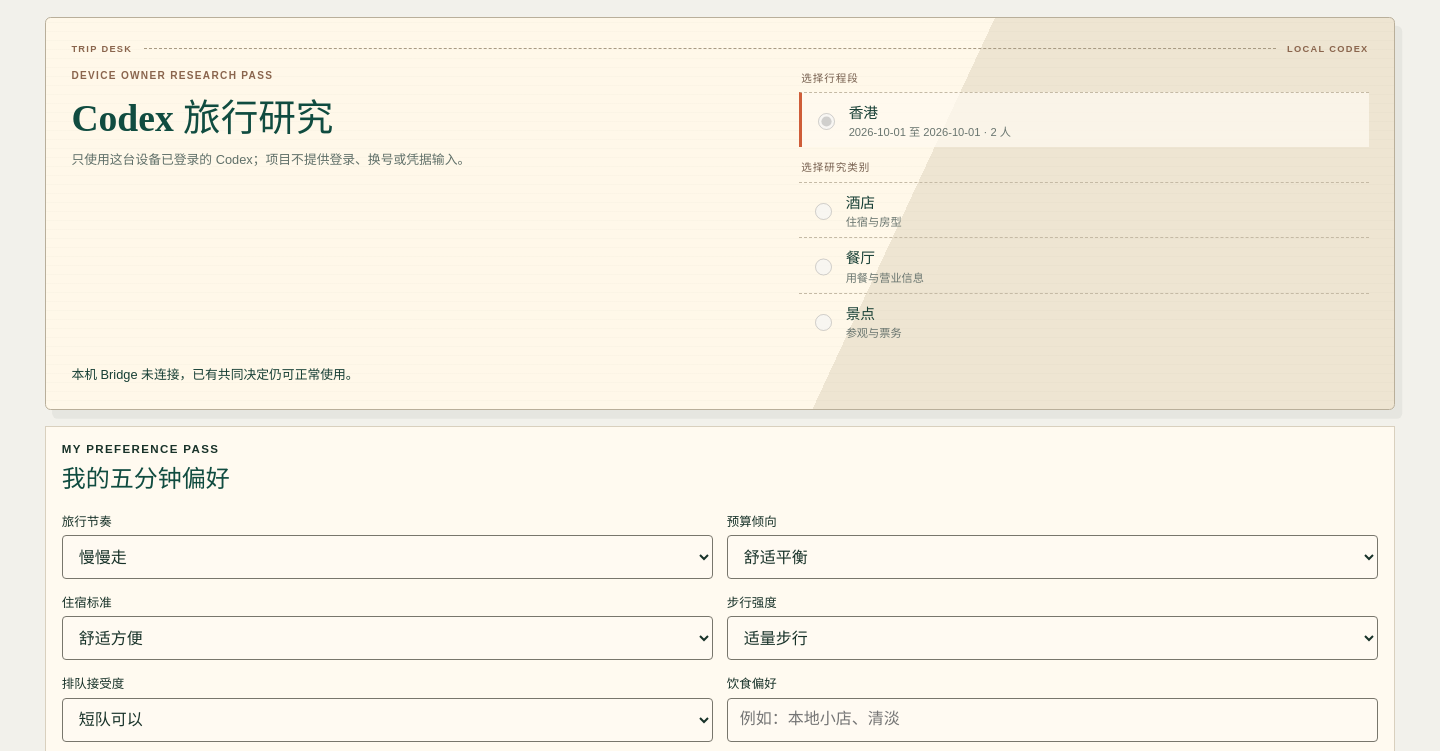
strictly refreshes a version conflict without retrying the command or discarding the draft
Type "本地小店" into the field labelled "饮食偏好". click: (1052, 720)
box: [727,698,1378,742]
(page scrolled)
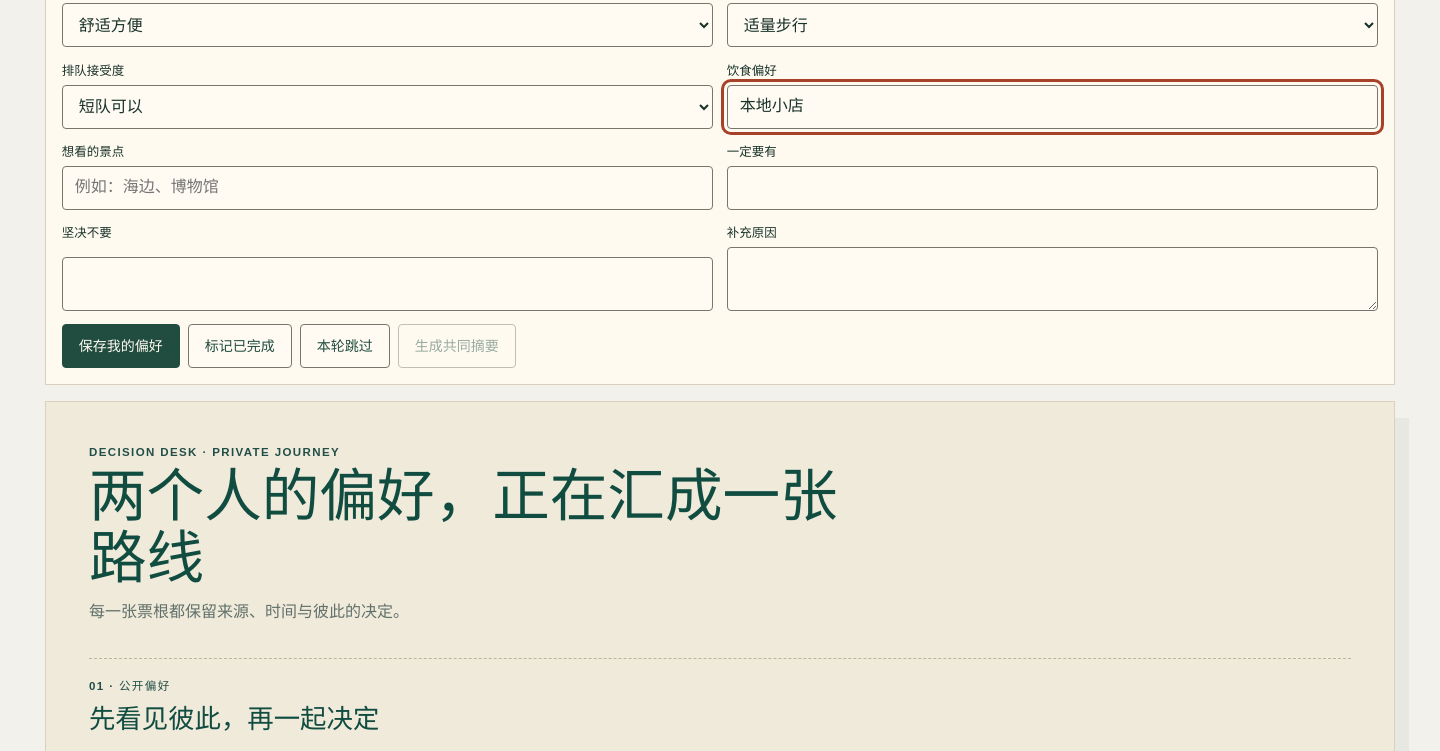
Click the button "保存我的偏好". click: click(121, 346)
box: [62,324,180,368]
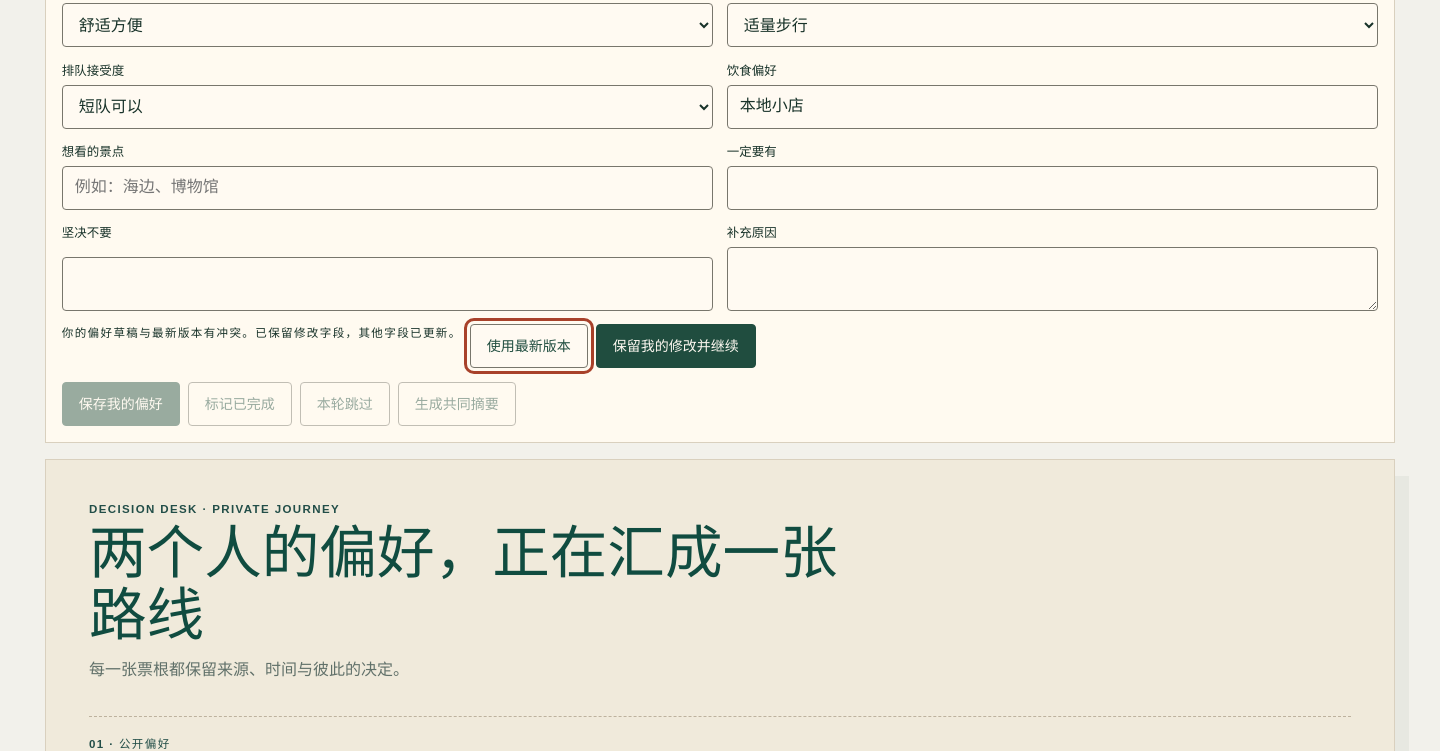
Expected: the button "保存我的偏好" is disabled, [62,382,180,426]
Expected: the button "使用最新版本" is enabled, [470,324,588,368]
Expected: the button "保留我的修改并继续" is enabled, [596,324,756,368]
